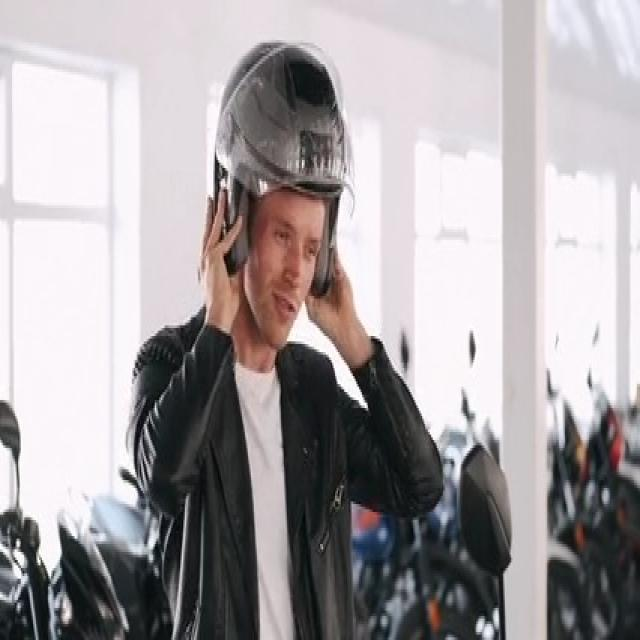Helmet_Wearer: (205, 35, 352, 361)
Jacket_Wearer: (133, 276, 434, 640)
Person: (125, 35, 436, 640)
